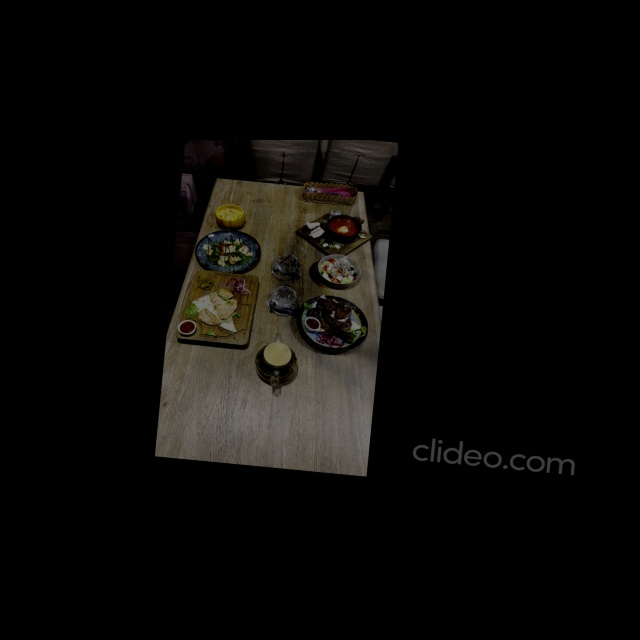Том ям: (294, 208, 375, 260)
графин с чаем: (253, 332, 300, 388)
закуска: (175, 268, 260, 349)
мясное блюдо: (294, 293, 371, 355)
салат: (193, 227, 263, 276)
салат цезарь: (316, 252, 363, 290)
суп сырный: (214, 203, 246, 231)
